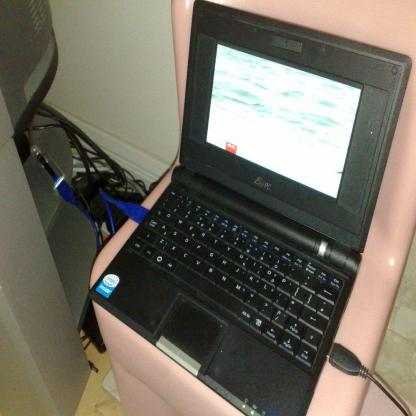board: (89, 0, 409, 414)
